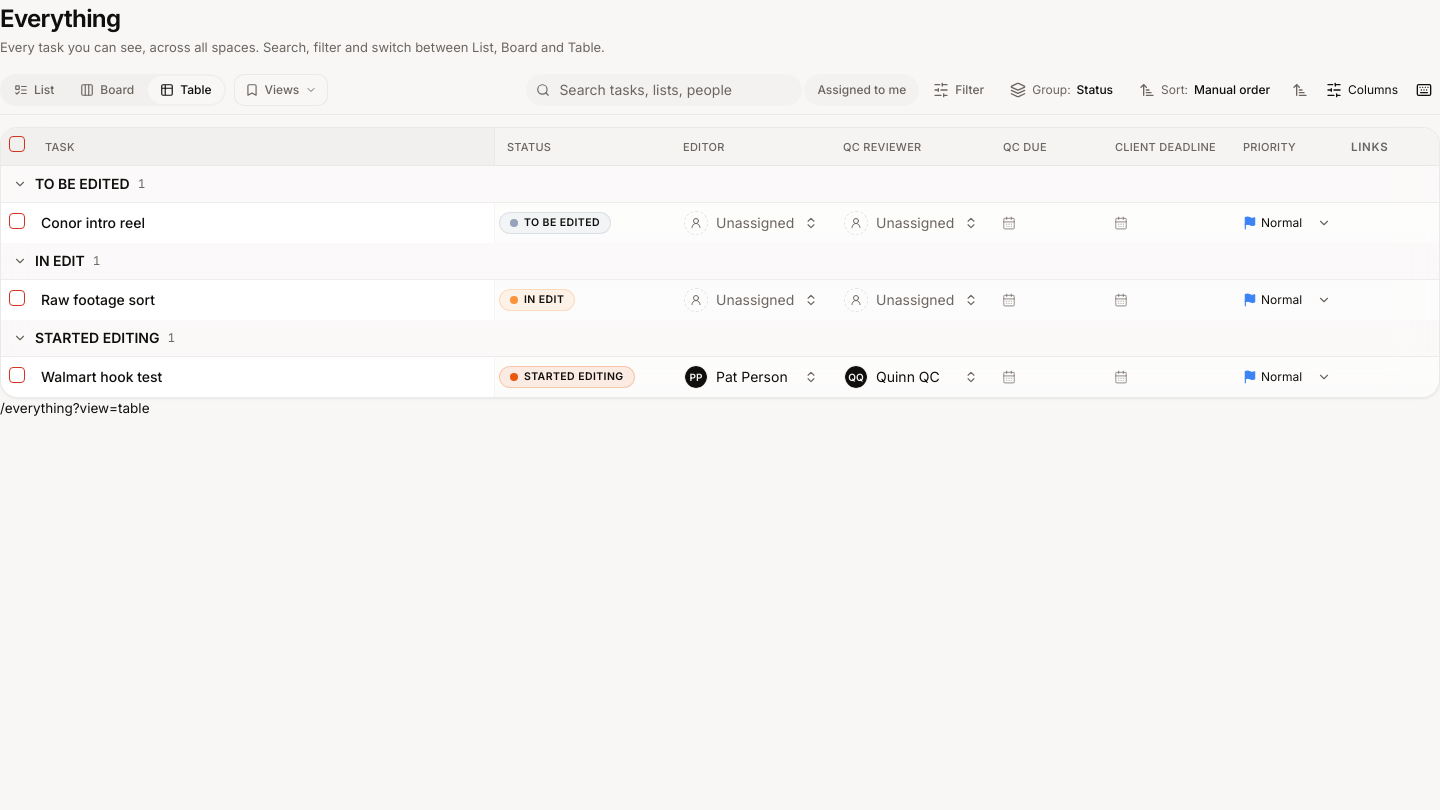
Test: Everything: every task the person can see › shows where each task lives in the table, and can group by list
expect the link "Walmart hook test" is shown: met, box x1=41 y1=368 x2=162 y2=384
Click the button with aria-label "Columns:".
click(1362, 90)  # box x1=1318 y1=74 x2=1406 y2=106
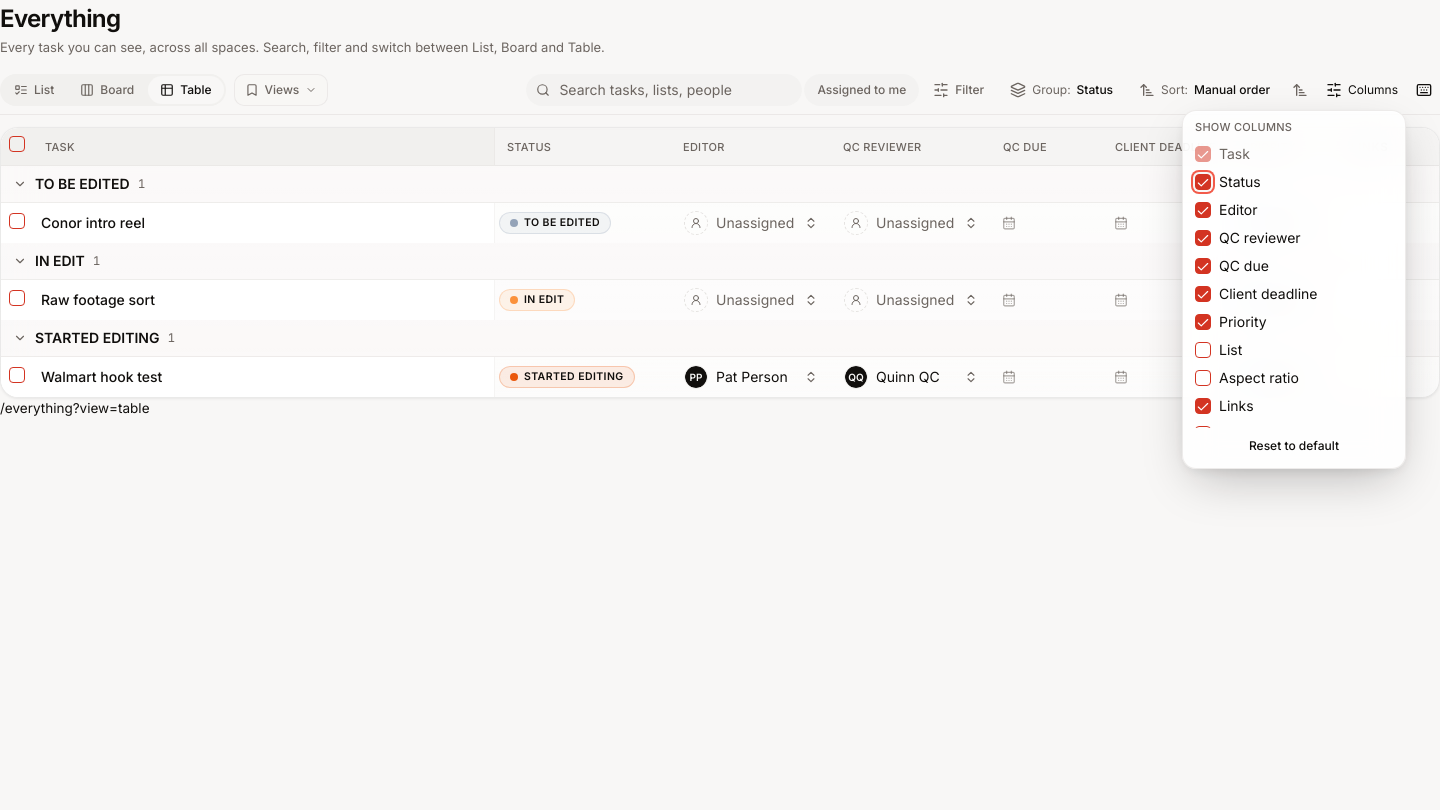
Click the 7th checkbox named "List".
click(1203, 350)  # box x1=1195 y1=342 x2=1211 y2=358
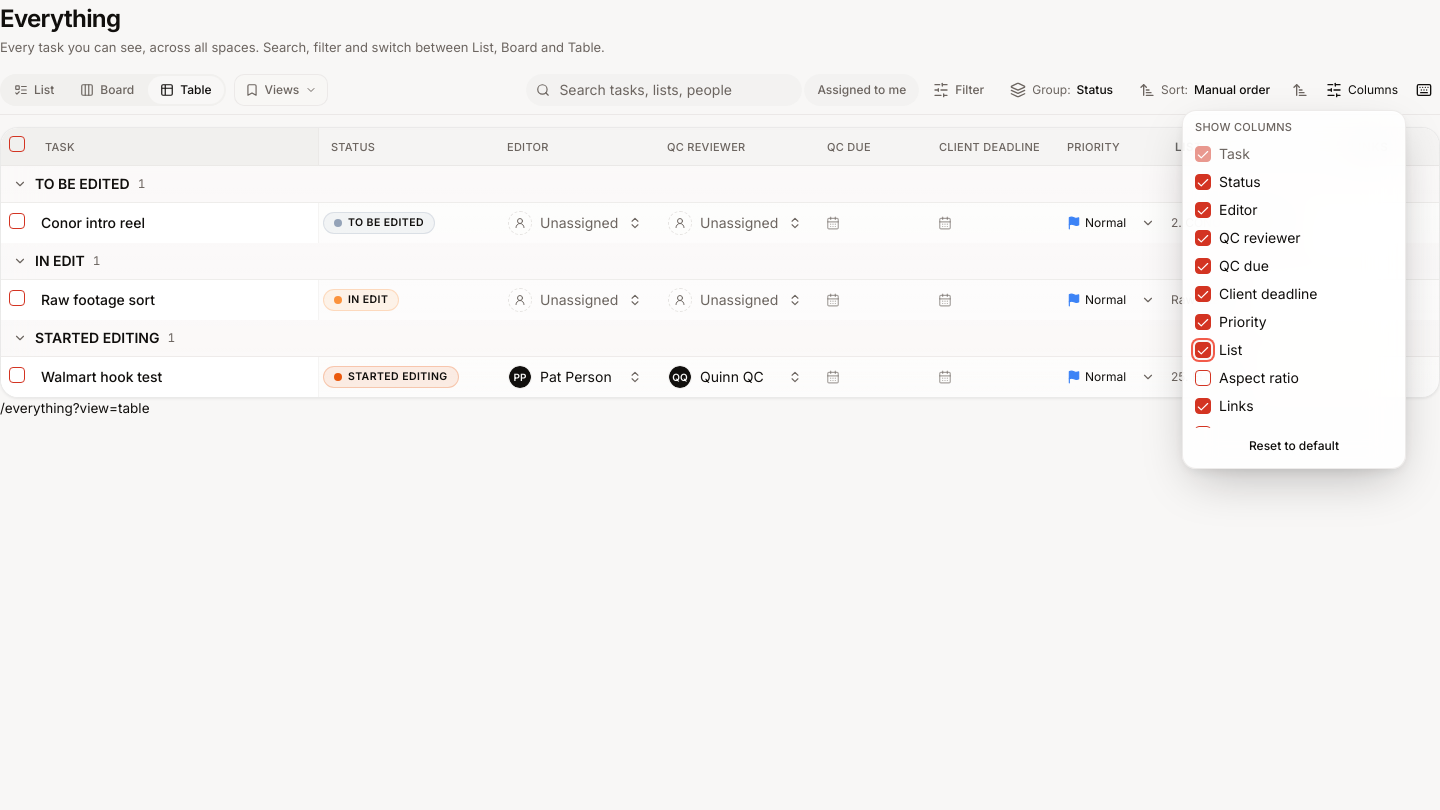
Press Escape
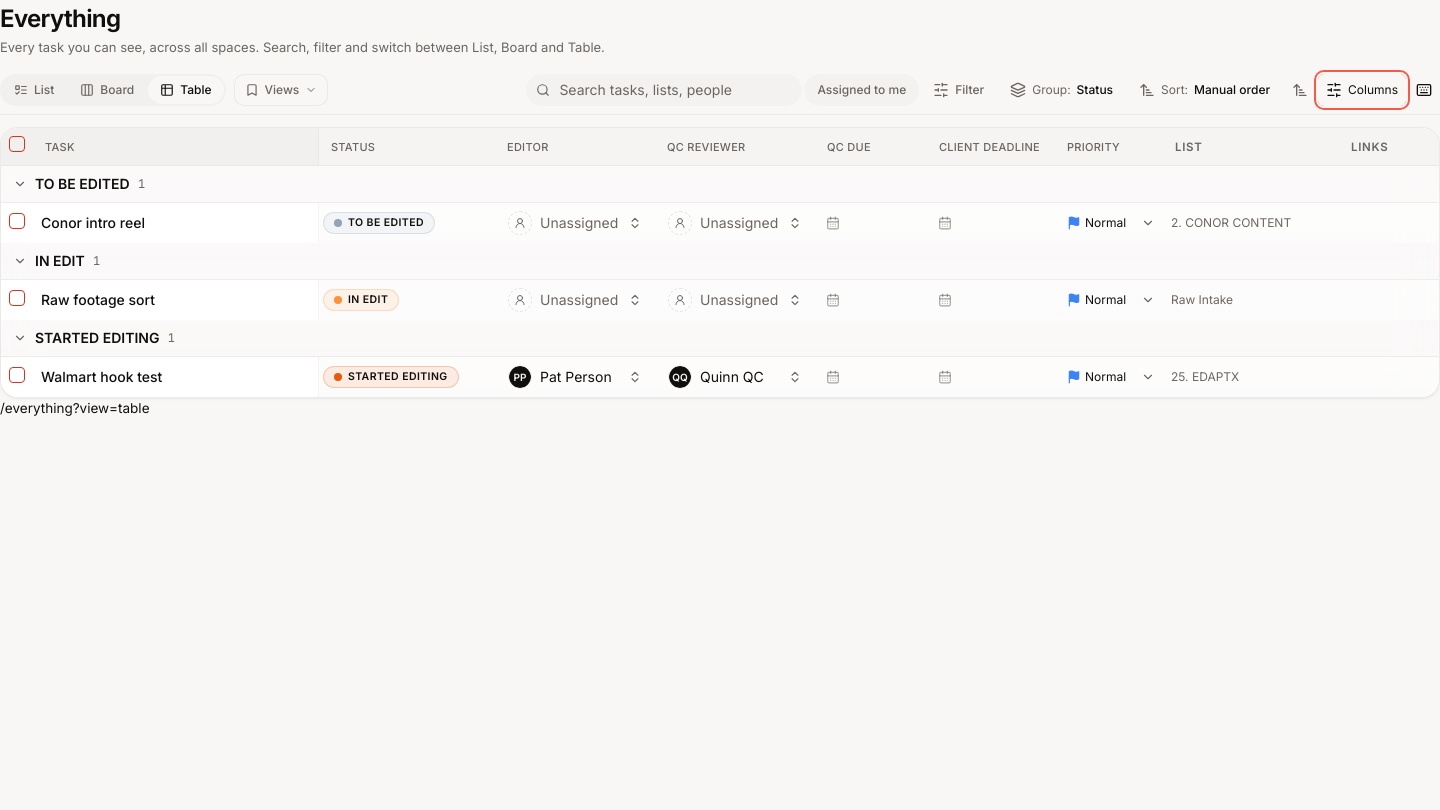
expect the text "Raw Intake" is shown: met, box x1=1171 y1=292 x2=1233 y2=306
Click the button "Group: Status".
click(1062, 90)  # box x1=998 y1=74 x2=1125 y2=106
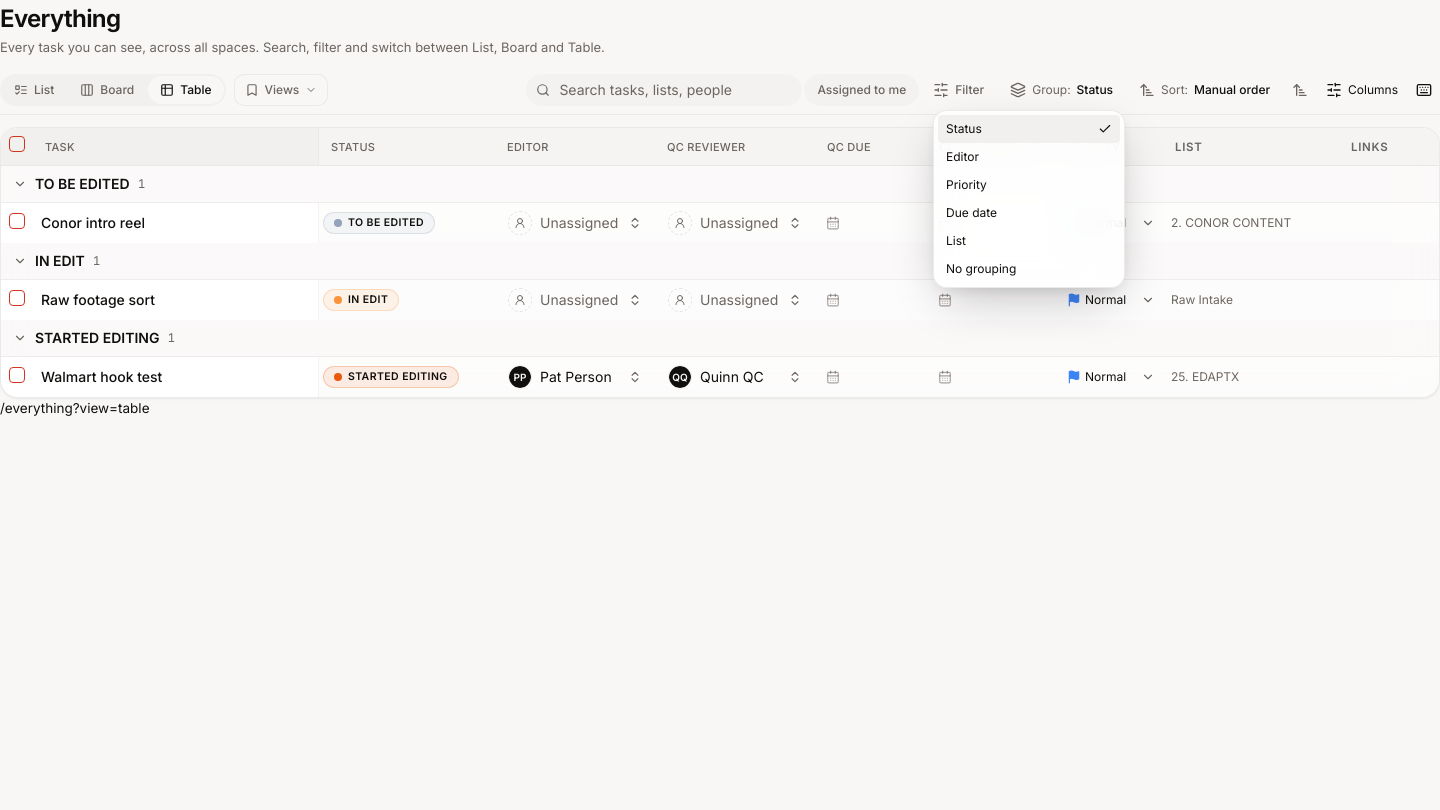
Click the option "List".
click(1029, 241)  # box x1=938 y1=227 x2=1120 y2=255
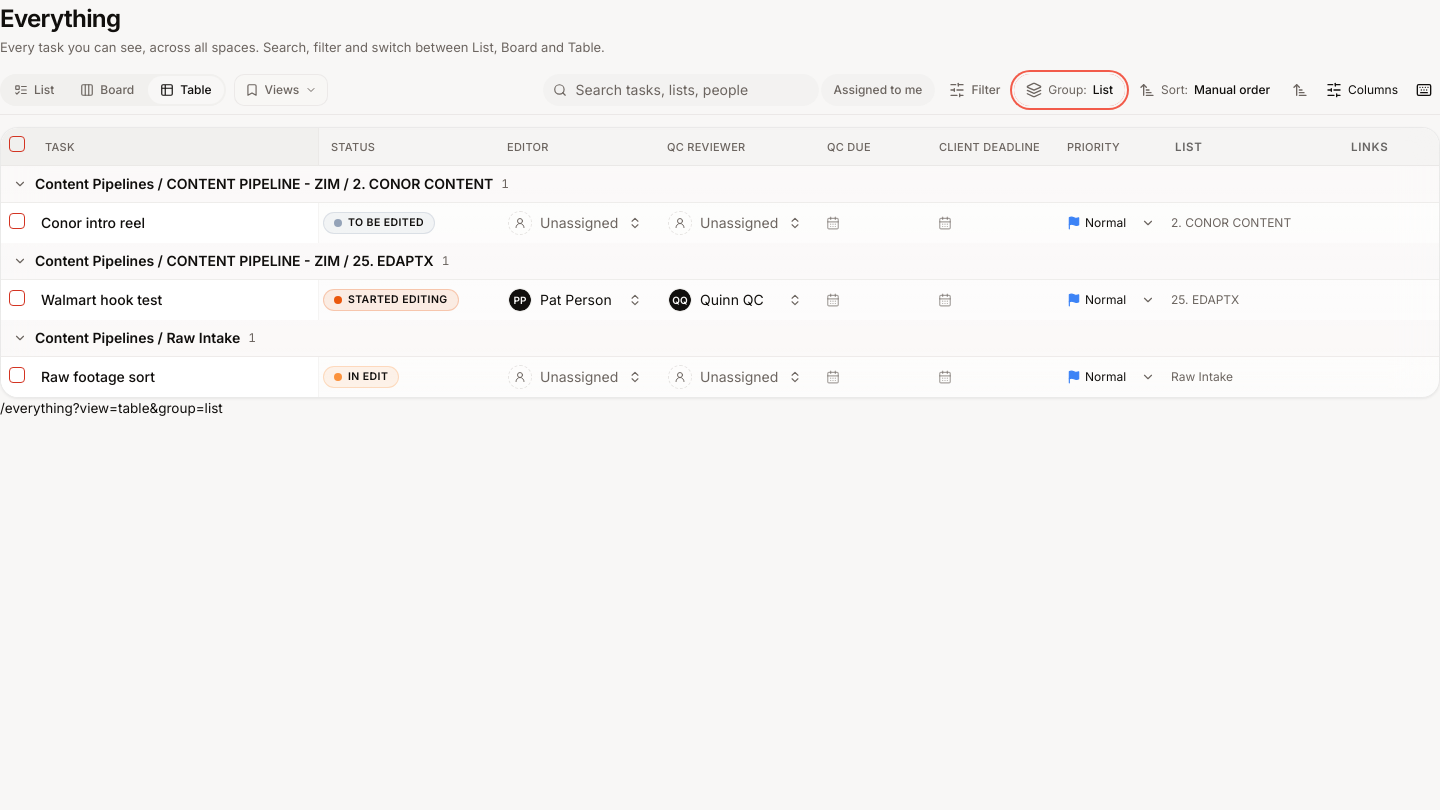
expect the text with test id "where" shows "group=list": met, box x1=0 y1=400 x2=223 y2=416
